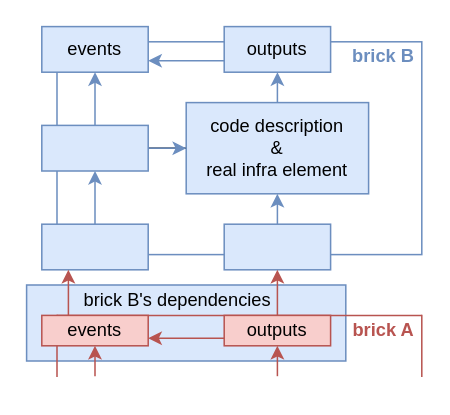
Image size: 450x415. Some labels were removed from this diagram. The centre of each missing label's shape, as x and y in pixels:
commands: the point at 94,147
inputs: the point at 277,246
triggers: the point at 94,246
